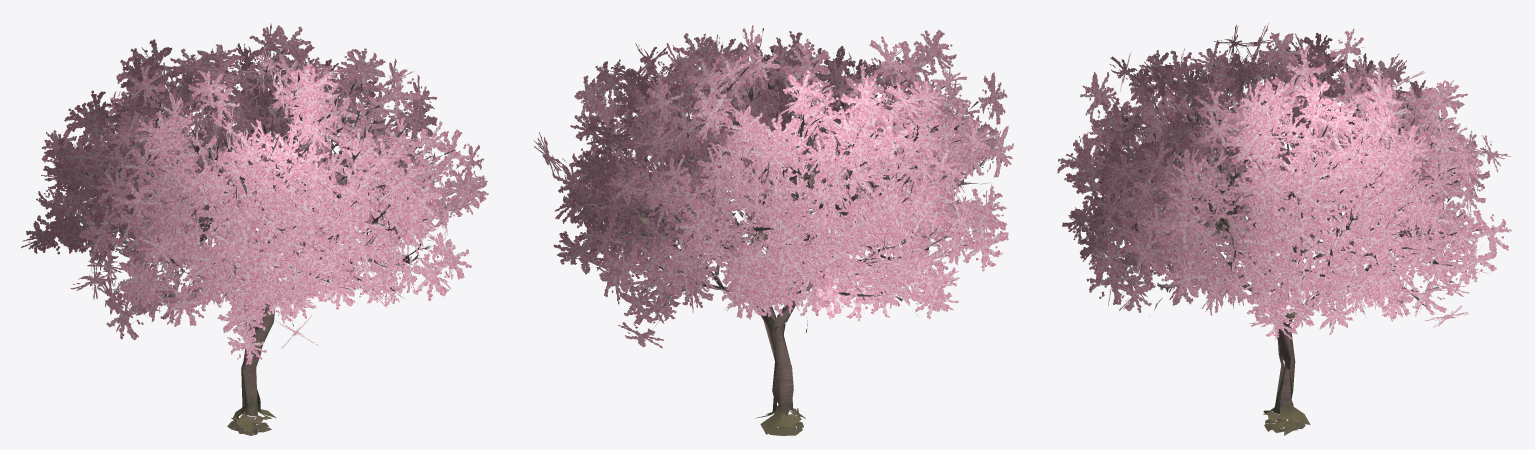
File: tree_sakura.glb
3 renders of one model, left to right at view 1: azimuth 30°, elevation 25°; view 2: azimuth 150°, elevation 25°; view 3: azimuth 270°, elevation 25°, orthographic. The views are drawn at different scales.
Visible parts, largest first — view 1: Sakura_Blossom, Mesh_0; view 2: Sakura_Blossom, Mesh_0; view 3: Sakura_Blossom, Mesh_0.
Boxes of the visible parts, left/top/right/bottom form: Sakura_Blossom: left=21, top=23, right=488, bottom=364; Mesh_0: left=60, top=47, right=460, bottom=435; Sakura_Blossom: left=533, top=25, right=1013, bottom=348; Mesh_0: left=562, top=28, right=991, bottom=435; Sakura_Blossom: left=1057, top=23, right=1511, bottom=339; Mesh_0: left=1070, top=32, right=1487, bottom=435.
Bounding box in the file's own units: 10.21 × 8.41 × 9.67.
2 materials, 2 textured.
